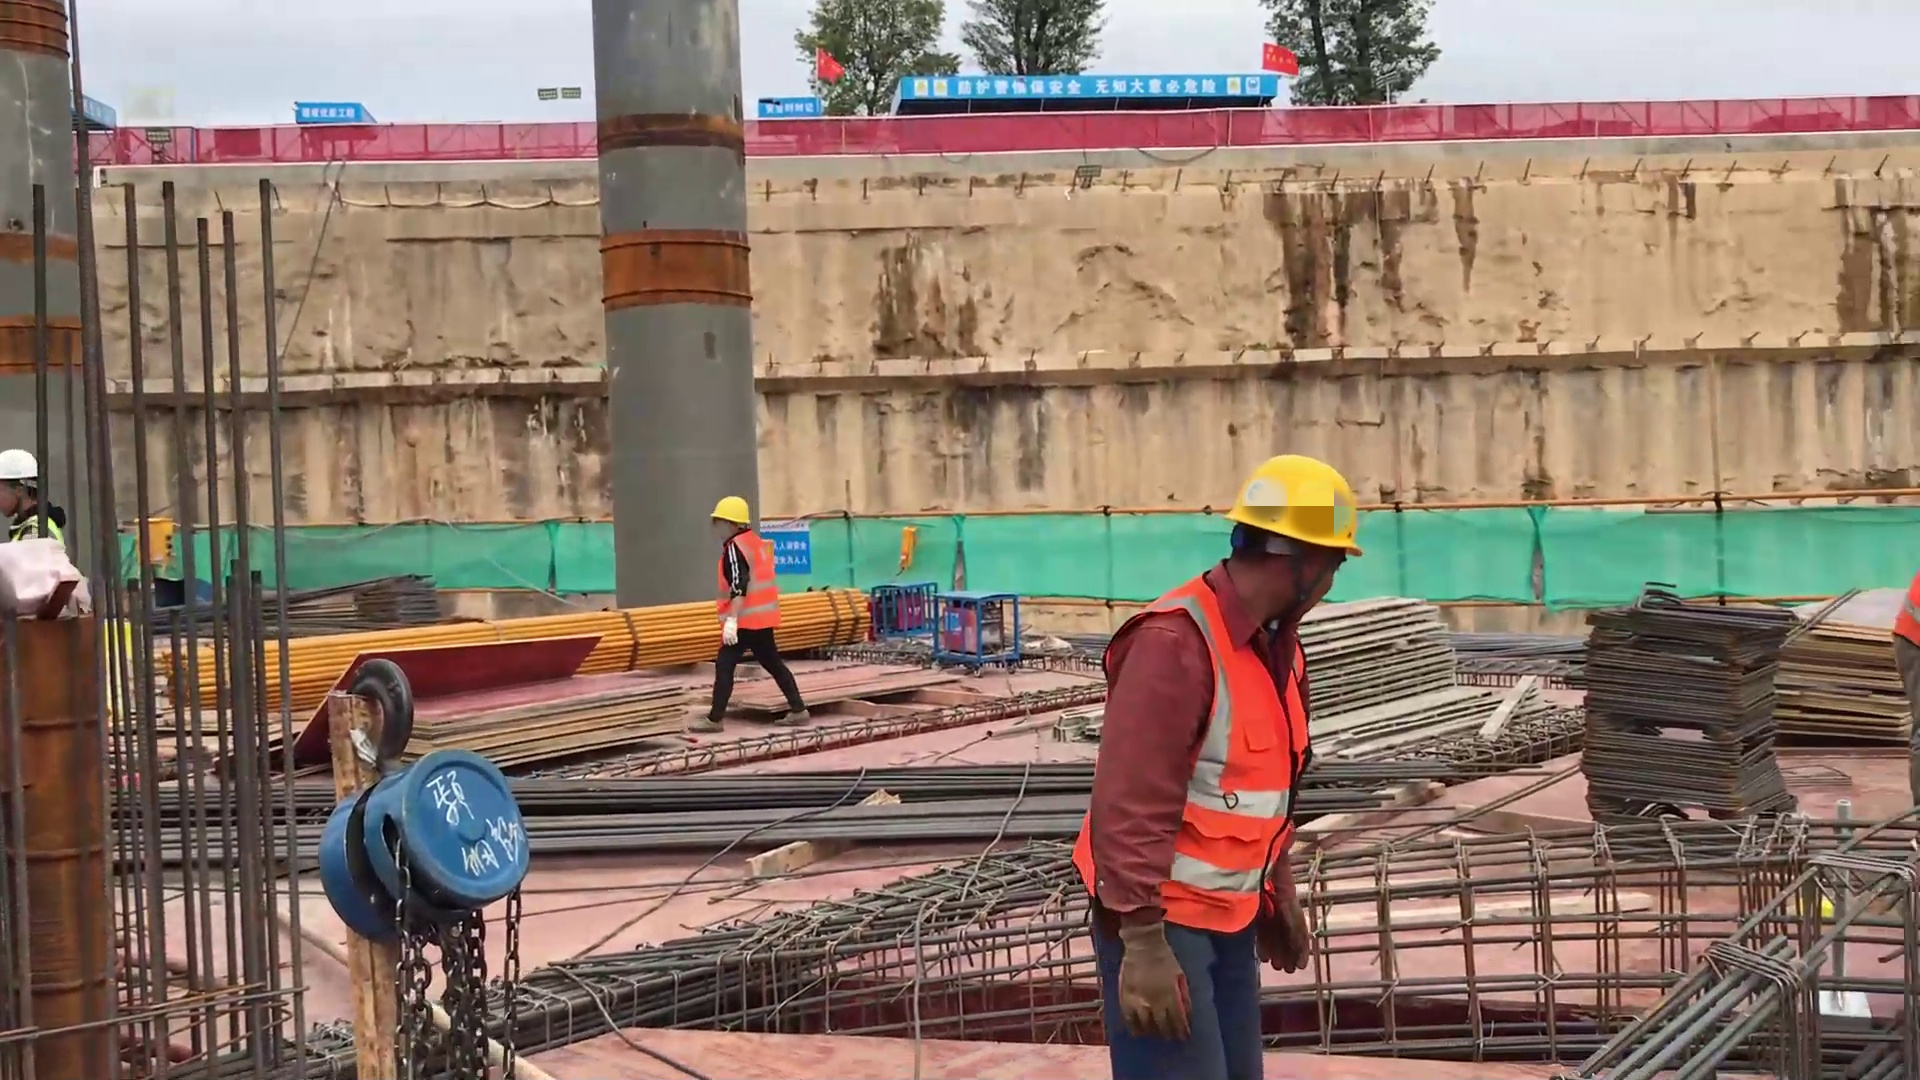board: (407, 675, 681, 758), (1787, 589, 1906, 738)
ebox: (131, 514, 178, 570)
helmet: (1225, 450, 1367, 557), (708, 495, 751, 525), (1, 449, 39, 479)
person: (1069, 454, 1370, 1080), (685, 494, 812, 734), (1, 448, 70, 541)
rebar: (531, 760, 1091, 865)
slogan: (902, 75, 1276, 100), (776, 520, 808, 575)
vest: (1071, 577, 1310, 933), (716, 532, 782, 629)
